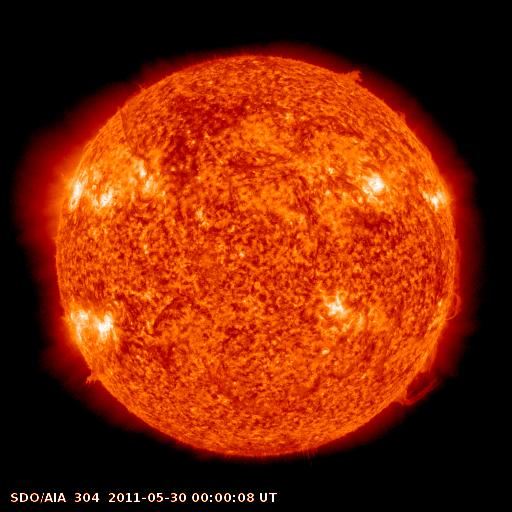prominence: (388, 337, 446, 409), (438, 235, 467, 325), (74, 356, 111, 397), (333, 59, 373, 90)
